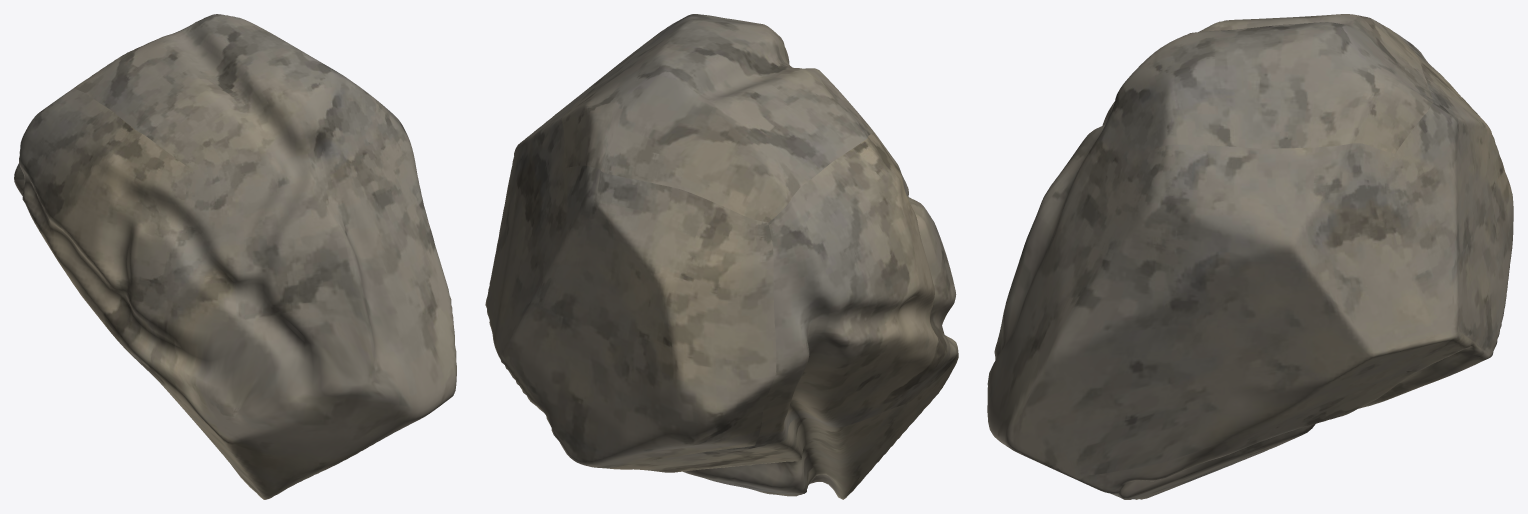
Rendered from rock3.fbx.
The picture shows the model from 3 angles, left to right: view 1: azimuth 30°, elevation 25°; view 2: azimuth 150°, elevation 25°; view 3: azimuth 270°, elevation 25°; orthographic projection. The views are drawn at different scales.
Visible parts, largest first — view 1: ZBrush_defualt_group; view 2: ZBrush_defualt_group; view 3: ZBrush_defualt_group.
Boxes of the visible parts, bbox=[...] form: ZBrush_defualt_group: bbox=[14, 14, 456, 499]; ZBrush_defualt_group: bbox=[485, 14, 958, 499]; ZBrush_defualt_group: bbox=[987, 14, 1513, 499].
Bounding box in the file's own units: 3.83 × 4.62 × 4.57.
